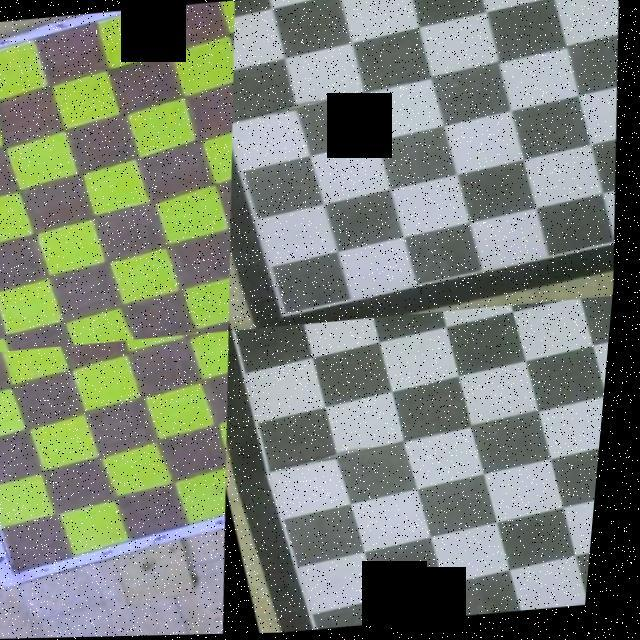chess-table-corners: (278, 308, 292, 320), (16, 566, 26, 574), (234, 1, 238, 5), (234, 332, 238, 335)
